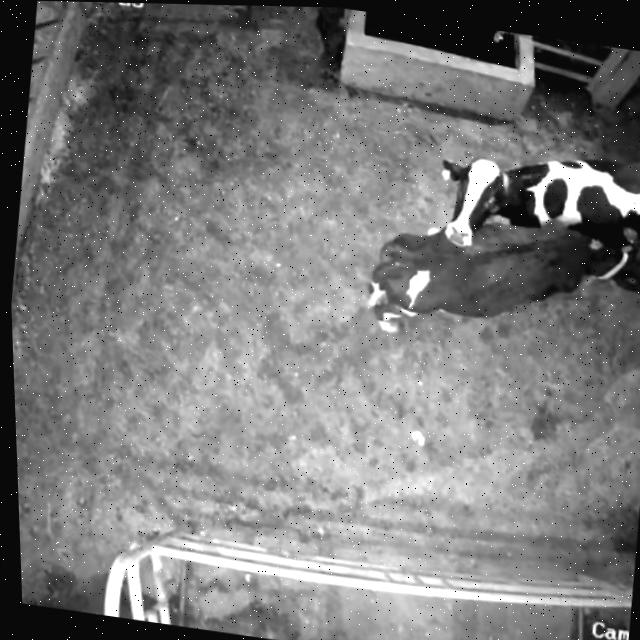propping: (384, 116, 549, 318)
